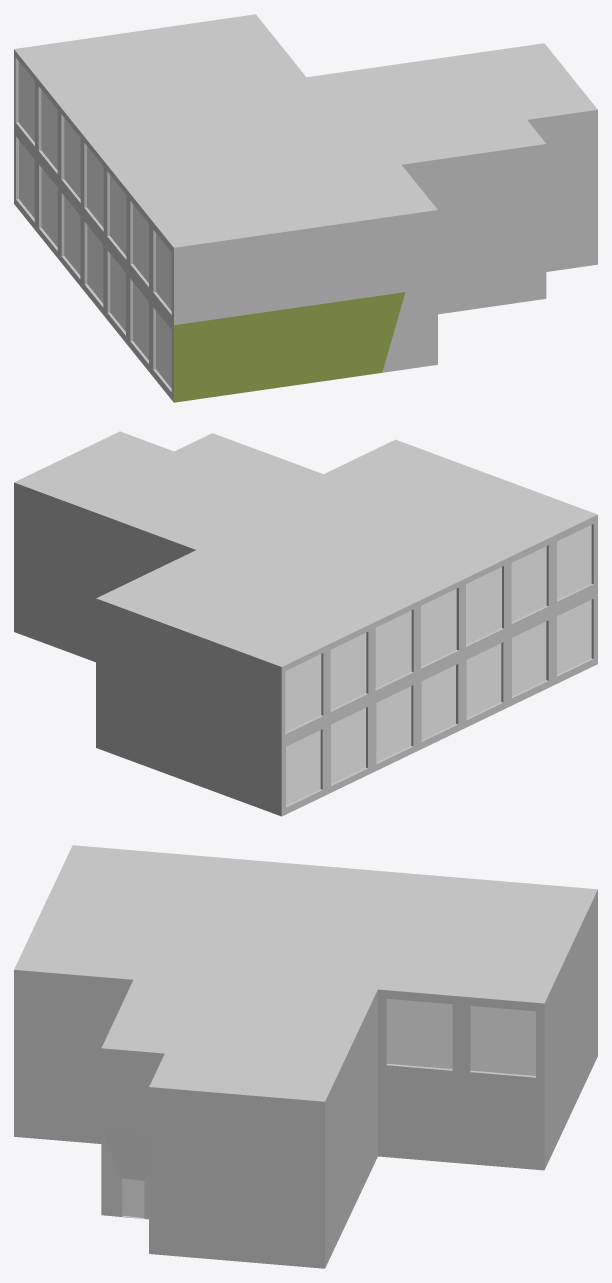
File: ivy_building 1.fbx
3 views of the same model, one above another, from view 1: azimuth 30°, elevation 25°; view 2: azimuth 150°, elevation 25°; view 3: azimuth 270°, elevation 25° (orthographic). The views are drawn at different scales.
Parts seen in each view (by area): view 1: polySurface3; view 2: polySurface3; view 3: polySurface3.
Boxes of the visible parts, x1,y1,x2,y2 form: polySurface3: (14,14,597,402); polySurface3: (14,431,597,816); polySurface3: (14,845,597,1268).
Bounding box in the file's own units: 54.89 × 16.66 × 52.8.
